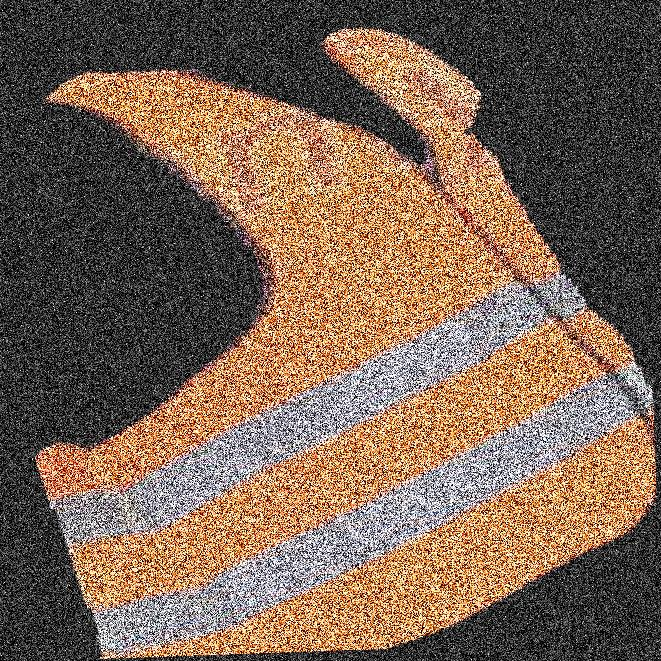Colete: (228, 0, 439, 660)
